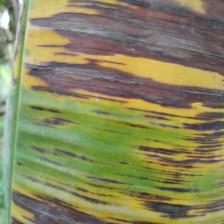sigatoka: (12, 0, 224, 224)
